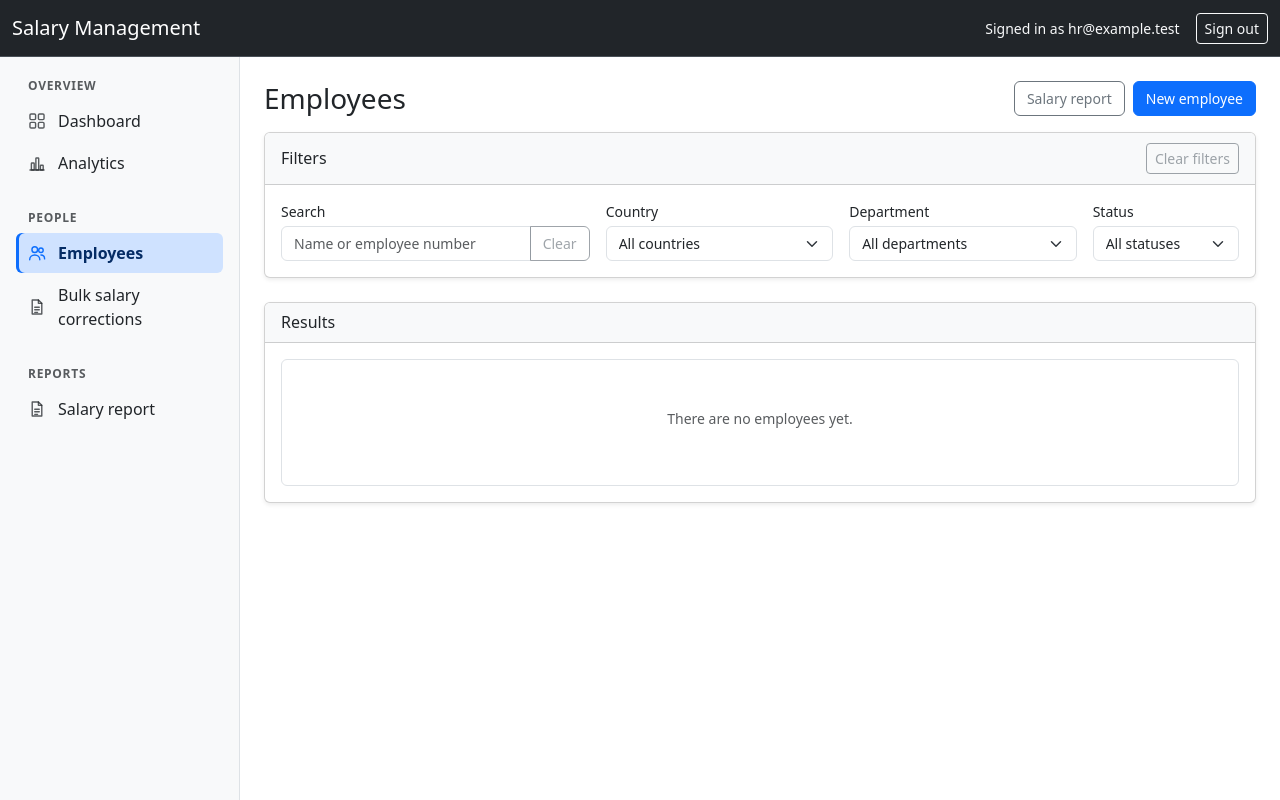
EmployeeCreatePage › is reached from the New employee button on the list
Click the link "New employee" at (1194, 98), box [1133, 81, 1256, 116]
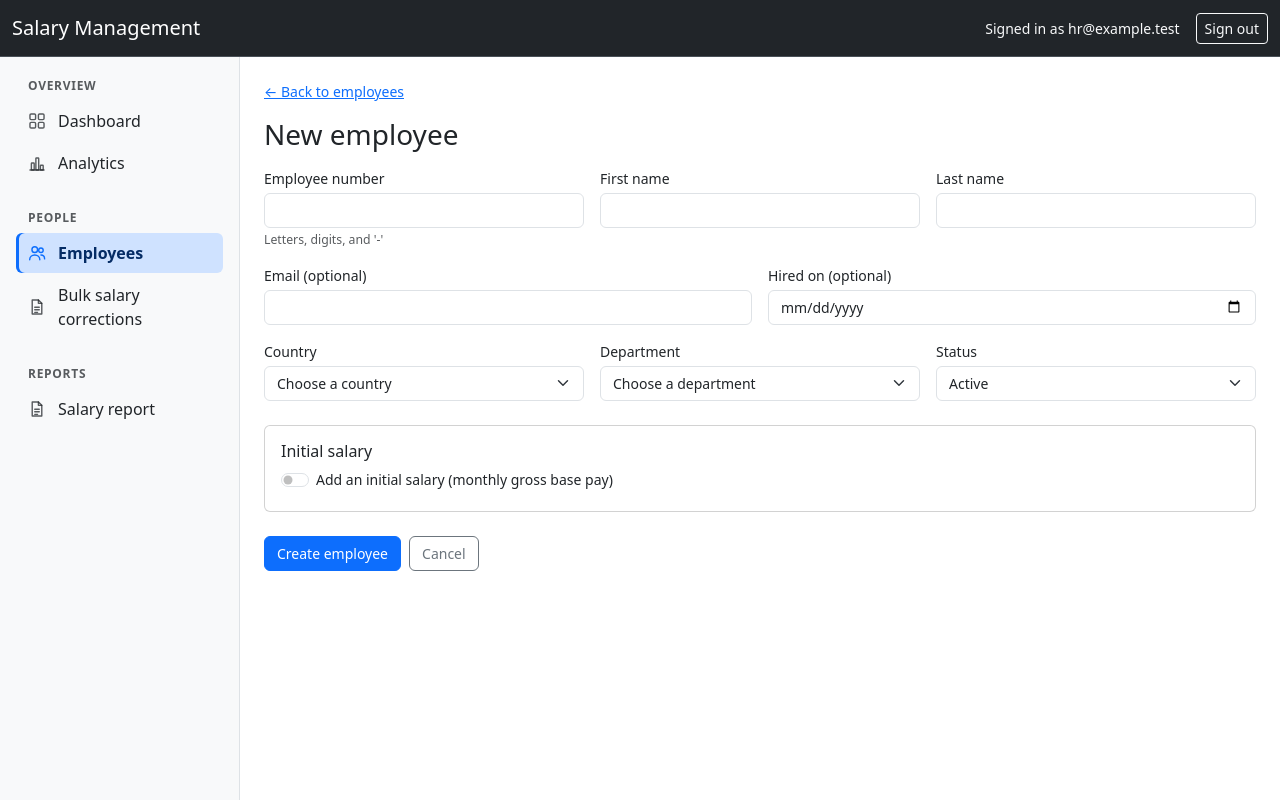
Check: the heading "New employee" is shown, box [264, 115, 458, 153]
